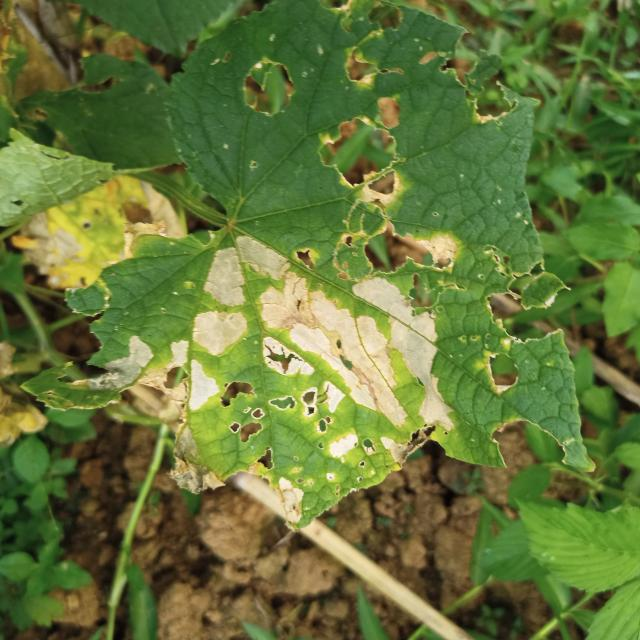disease_cucumber: (315, 38, 525, 468), (118, 254, 454, 476)
